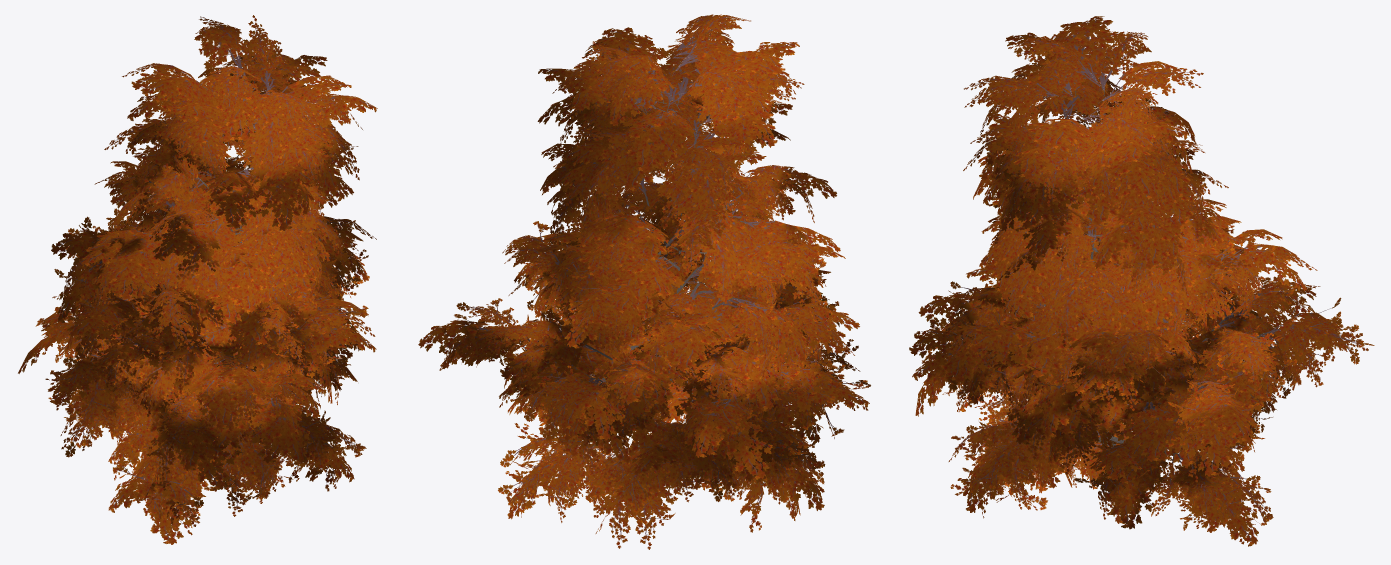
The picture shows the model from 3 angles, left to right: view 1: azimuth 30°, elevation 25°; view 2: azimuth 150°, elevation 25°; view 3: azimuth 270°, elevation 25°; orthographic projection. The views are drawn at different scales.
Parts seen in each view (by area): view 1: SM_MapleTree_02_canopy_LOD0; view 2: SM_MapleTree_02_canopy_LOD0; view 3: SM_MapleTree_02_canopy_LOD0.
Boxes of the visible parts, left/top/right/bottom form: SM_MapleTree_02_canopy_LOD0: left=18, top=15, right=377, bottom=544; SM_MapleTree_02_canopy_LOD0: left=418, top=14, right=870, bottom=549; SM_MapleTree_02_canopy_LOD0: left=909, top=16, right=1374, bottom=546.
Size of the model in its own units: 13.76 by 16.89 by 14.63.
Materials: 2 (2 with a texture image).
